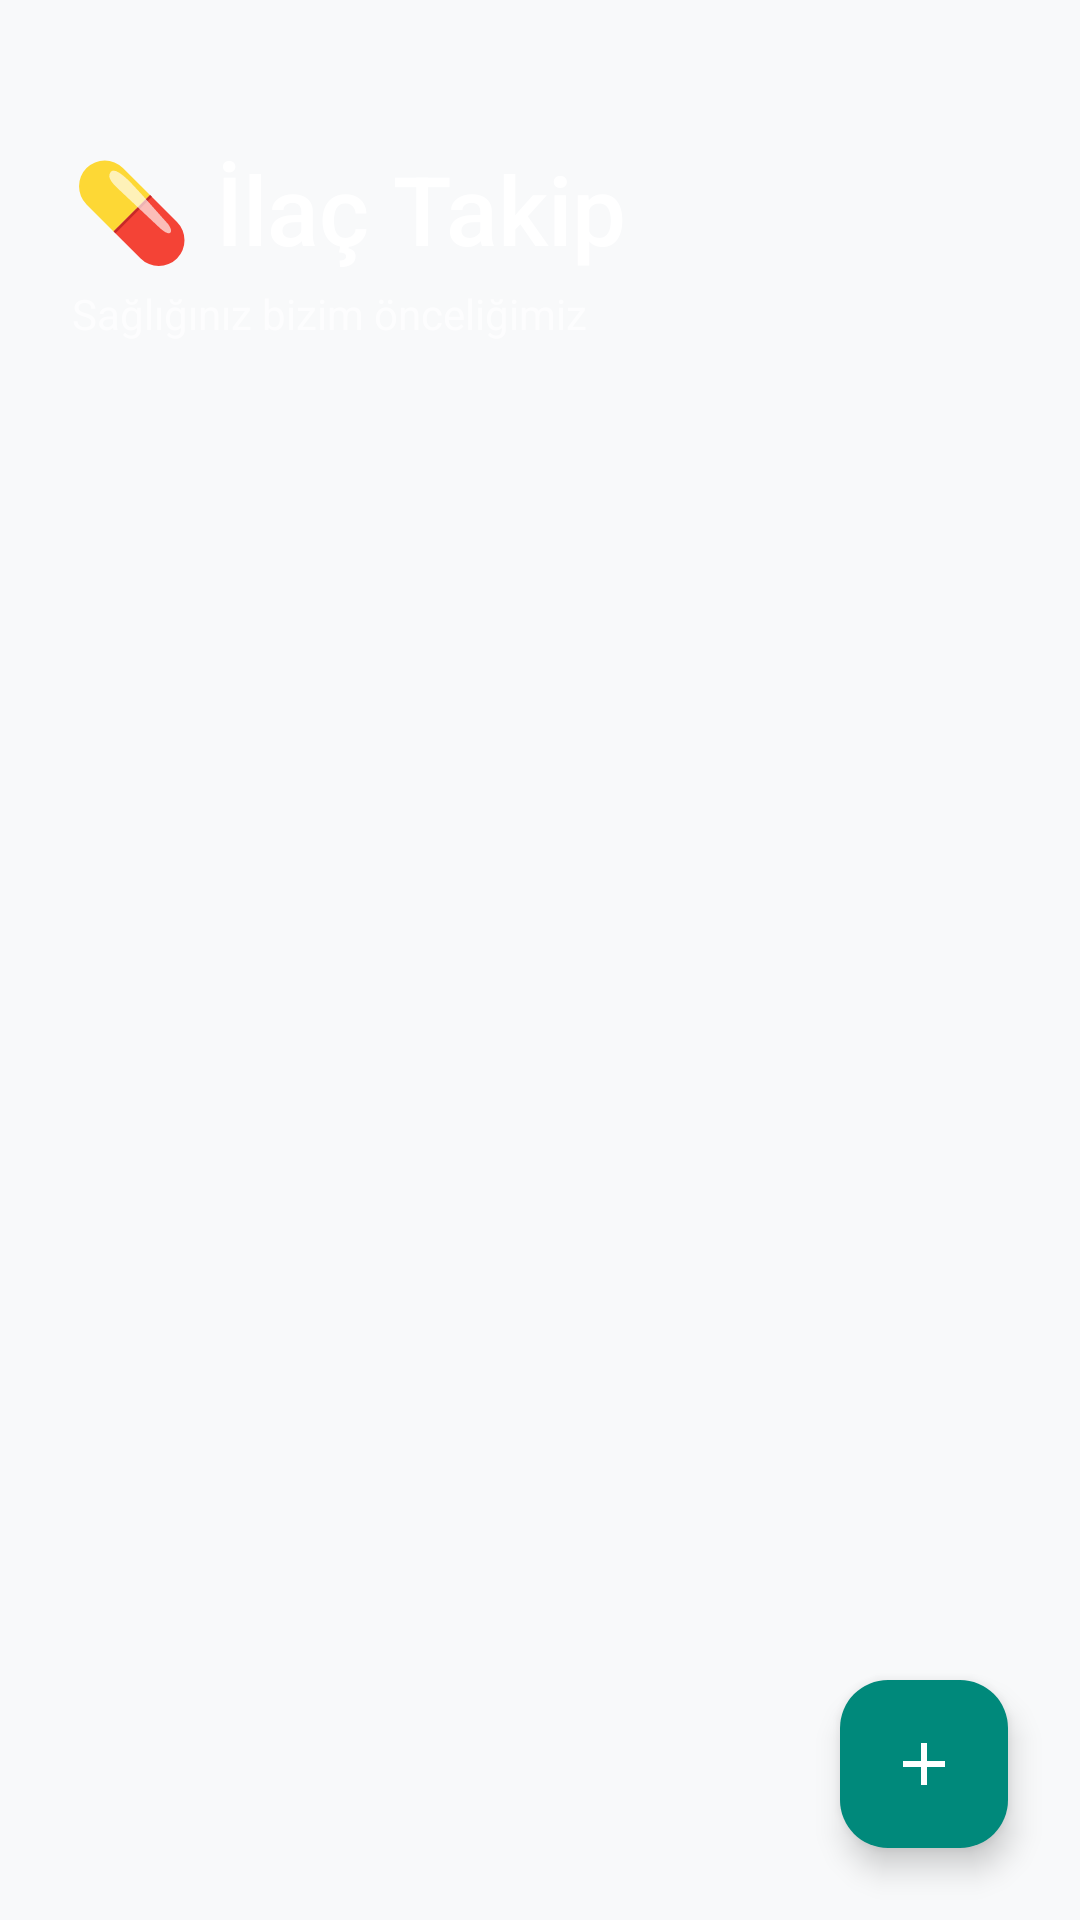

Named icons in this screenshot (1080×1920) and their bounding boxes, (x1, y1, x2, y2):
Yeni İlaç Ekle: (840, 1680, 1008, 1848)
